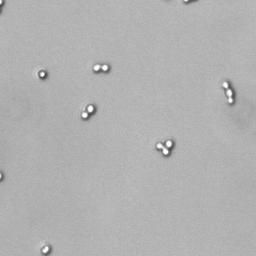budding: (154, 138, 173, 156), (221, 80, 235, 104), (80, 104, 95, 121), (92, 63, 109, 73)
individual: (41, 244, 51, 256), (38, 69, 46, 79)
